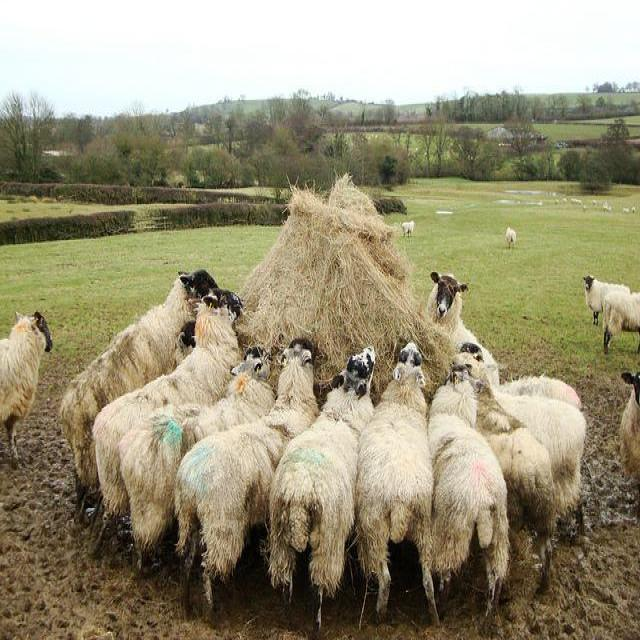Sheep: (93, 220, 639, 481), (89, 289, 248, 560), (175, 341, 319, 631), (61, 263, 218, 521), (121, 347, 273, 584), (269, 338, 378, 634), (352, 338, 439, 626), (430, 344, 509, 639), (477, 371, 557, 596), (484, 362, 584, 542), (0, 312, 55, 472), (426, 271, 500, 365), (602, 291, 639, 356)
